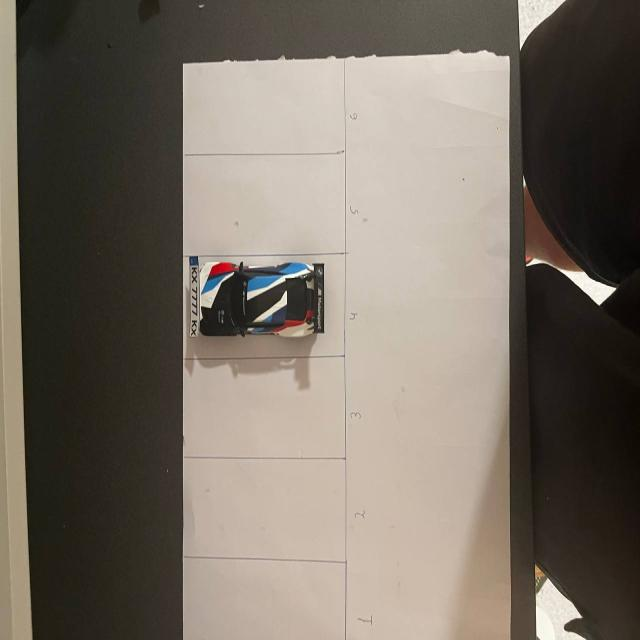cars: (185, 244, 347, 355)
